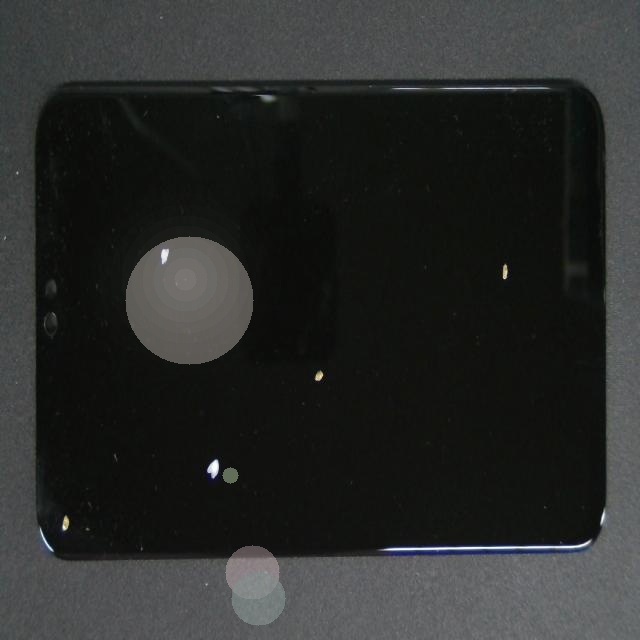stain: (151, 138, 460, 518), (251, 100, 640, 366), (99, 196, 294, 640), (91, 77, 244, 326), (62, 265, 123, 640)
